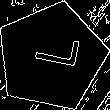L_W: (23, 36, 79, 78)
